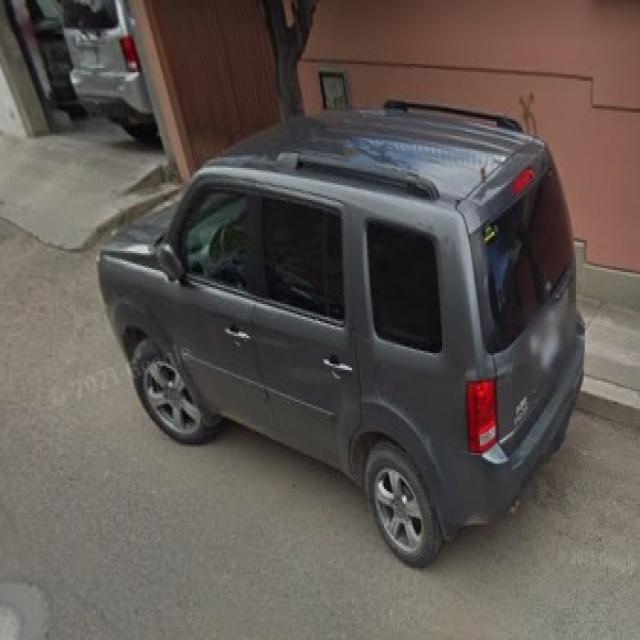cars: (104, 92, 588, 569)
